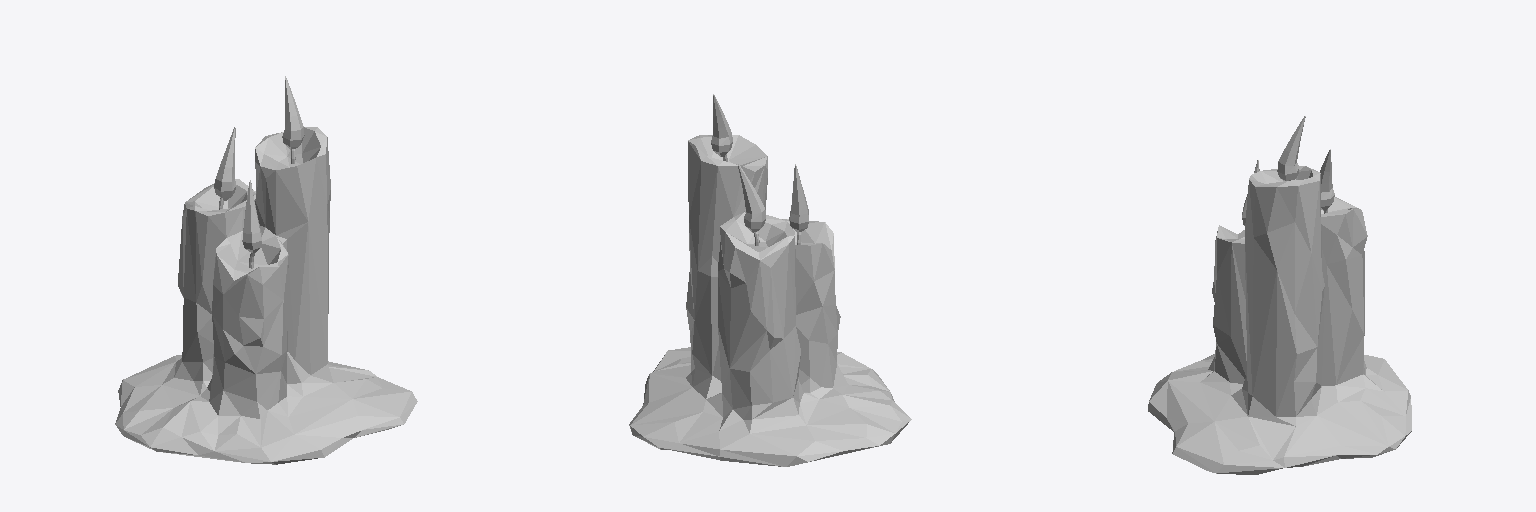
The model's file is candle12.obj.
3 views of the same model, side by side, from view 1: azimuth 30°, elevation 25°; view 2: azimuth 150°, elevation 25°; view 3: azimuth 270°, elevation 25° (orthographic).
Parts seen in each view (by area): view 1: Object003, candleflame002, candleflame003, candleflame001; view 2: Object003, candleflame002, candleflame003, candleflame001; view 3: Object003, candleflame003, candleflame002.
Boxes of the visible parts, x1=… form: Object003: x1=115, y1=127, x2=417, y2=464; candleflame002: x1=214, y1=127, x2=236, y2=200; candleflame003: x1=282, y1=76, x2=304, y2=149; candleflame001: x1=242, y1=180, x2=261, y2=252; Object003: x1=629, y1=135, x2=911, y2=466; candleflame002: x1=738, y1=164, x2=765, y2=232; candleflame003: x1=711, y1=94, x2=732, y2=156; candleflame001: x1=789, y1=164, x2=808, y2=232; Object003: x1=1148, y1=166, x2=1411, y2=474; candleflame003: x1=1277, y1=116, x2=1305, y2=180; candleflame002: x1=1320, y1=149, x2=1334, y2=210.
Size of the model in its own units: 1.05 by 1.23 by 0.9231.